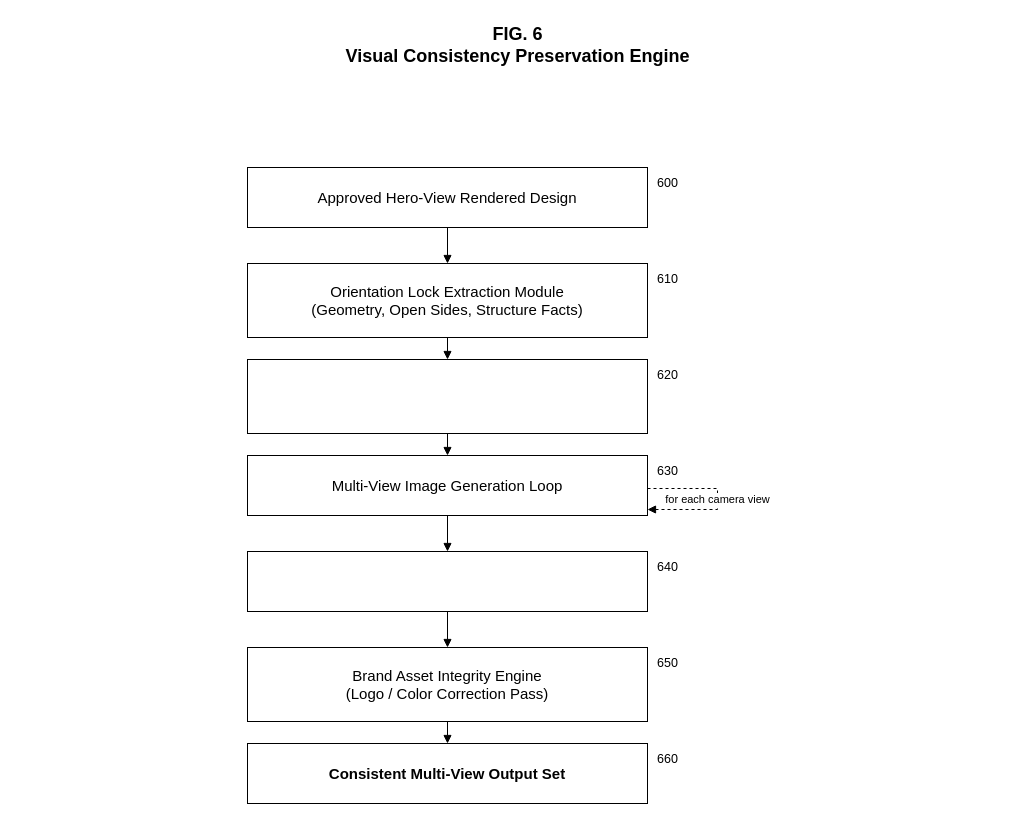
Some shapes in this 1034 by 821 pixel diagram are drawn without their labels. The box of each missing label's shape, as (x1, y1, x2, y2) in pixels:
Camera View Prompt Generator (per view): (246, 358, 648, 434)
Cross-View Geometry Verifier: (246, 550, 648, 612)
